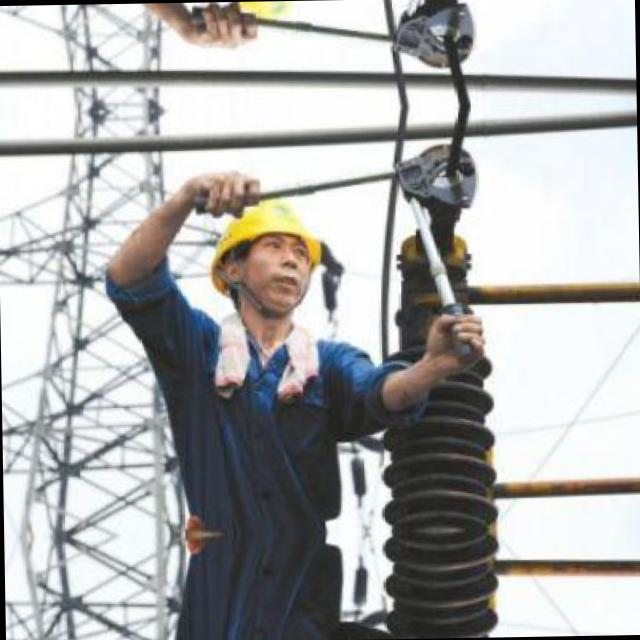helmet: (205, 193, 338, 319)
